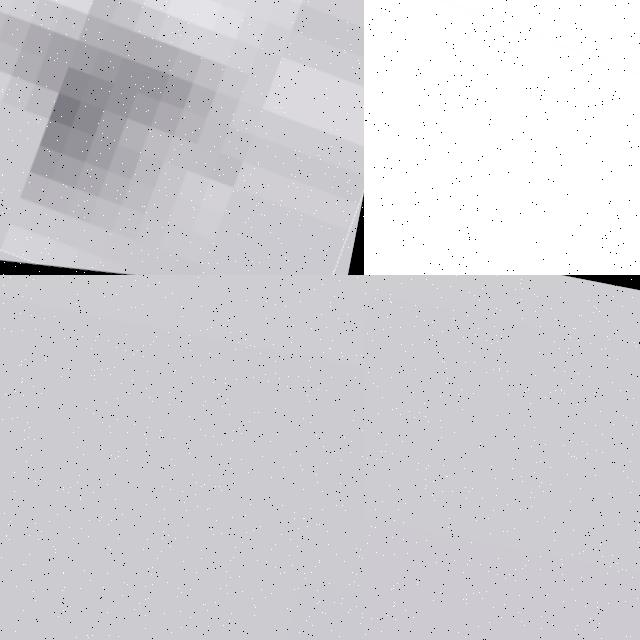0: (0, 0, 364, 275)
drone: (364, 0, 640, 275)
